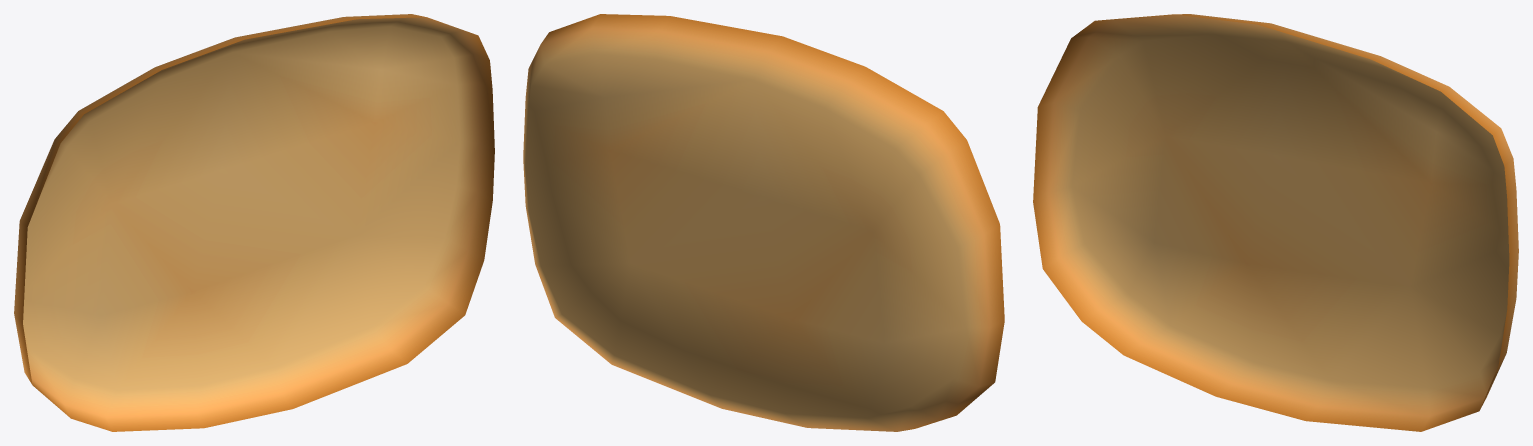
Rendered from Ground 03.FBX.
The picture shows the model from 3 angles, left to right: view 1: azimuth 30°, elevation 25°; view 2: azimuth 150°, elevation 25°; view 3: azimuth 330°, elevation 25°; orthographic projection.
Visible parts, largest first — view 1: Ground 03; view 2: Ground 03; view 3: Ground 03.
Boxes of the visible parts, x1,y1,x2,y2 form: Ground 03: (14,14,494,431); Ground 03: (523,14,1004,431); Ground 03: (1033,14,1518,431).
Size of the model in its own units: 1961 by 1514 by 152.
1 material, 1 textured.
